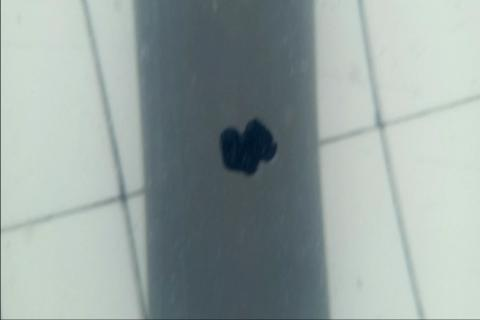kebocoran: (219, 115, 279, 178)
